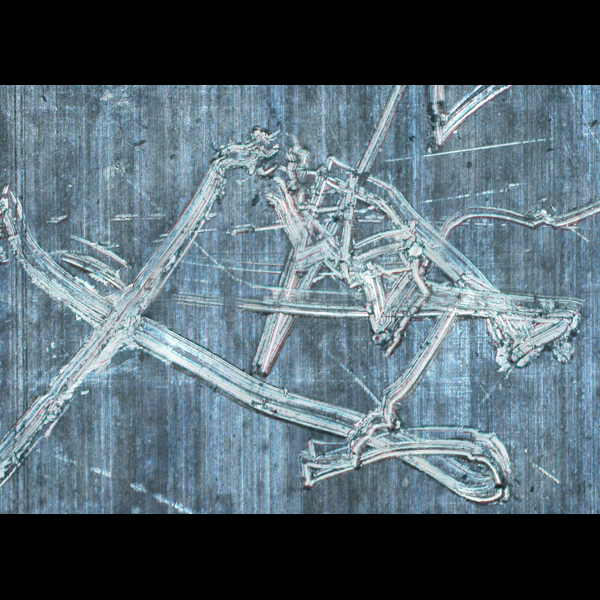d: (0, 141, 279, 461), (216, 125, 457, 367), (281, 389, 527, 507), (448, 278, 591, 382), (433, 198, 599, 264), (405, 85, 525, 164)
